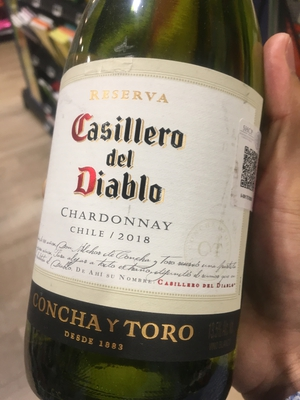casillero del diablo chardonnay: (25, 16, 261, 400)
